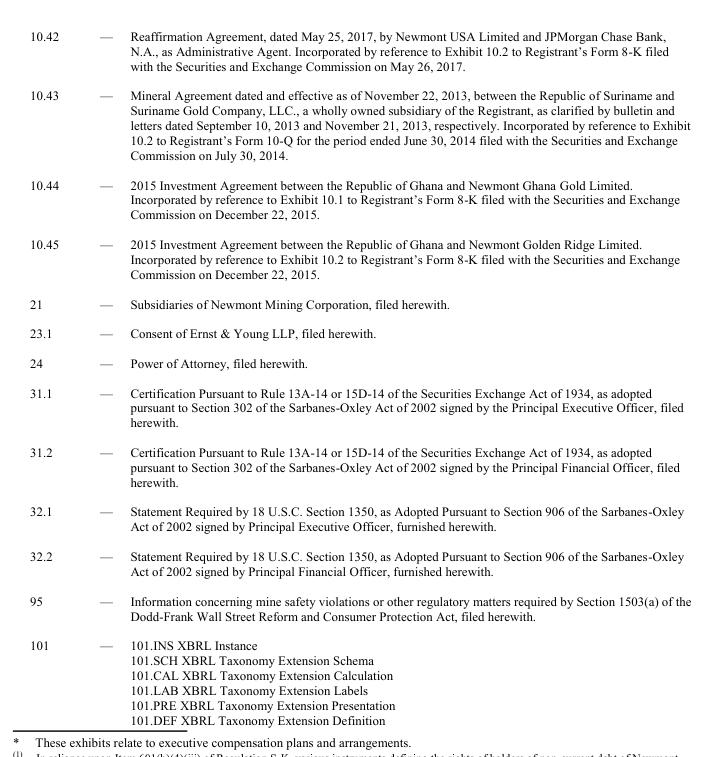table: (28, 28, 690, 726)
table column: (120, 28, 690, 726), (28, 28, 78, 726), (78, 28, 120, 726)
table column header: (28, 28, 690, 80)
table row: (28, 629, 690, 726), (28, 80, 690, 169), (28, 228, 690, 288), (28, 436, 690, 496), (28, 169, 690, 228), (28, 377, 690, 436), (28, 28, 690, 80), (28, 540, 690, 585), (28, 496, 690, 540), (28, 585, 690, 629), (28, 317, 690, 347), (28, 347, 690, 377), (28, 288, 690, 317)
